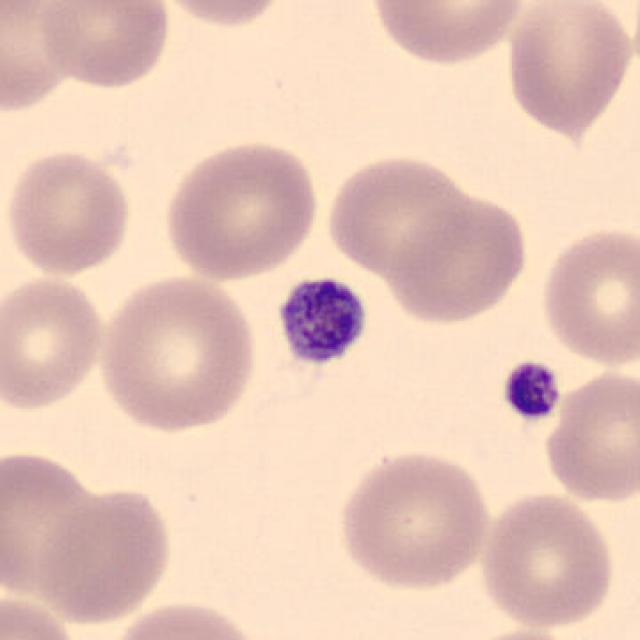Platelets: (271, 271, 374, 374), (498, 358, 564, 423)
RBC: (95, 270, 262, 435), (332, 446, 496, 594), (158, 136, 324, 282), (36, 481, 178, 626), (476, 488, 620, 630), (322, 148, 478, 279), (386, 190, 532, 326), (502, 0, 636, 138), (0, 444, 114, 606), (2, 144, 137, 278), (535, 220, 640, 372), (0, 271, 108, 414), (539, 363, 638, 506), (38, 0, 174, 92), (366, 0, 532, 69), (0, 0, 80, 118), (103, 596, 265, 640), (151, 0, 292, 32), (0, 589, 84, 640), (459, 626, 583, 640)
